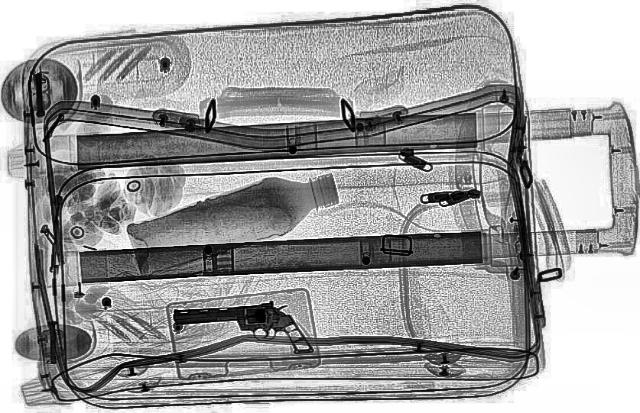Gun: (166, 299, 314, 361)
